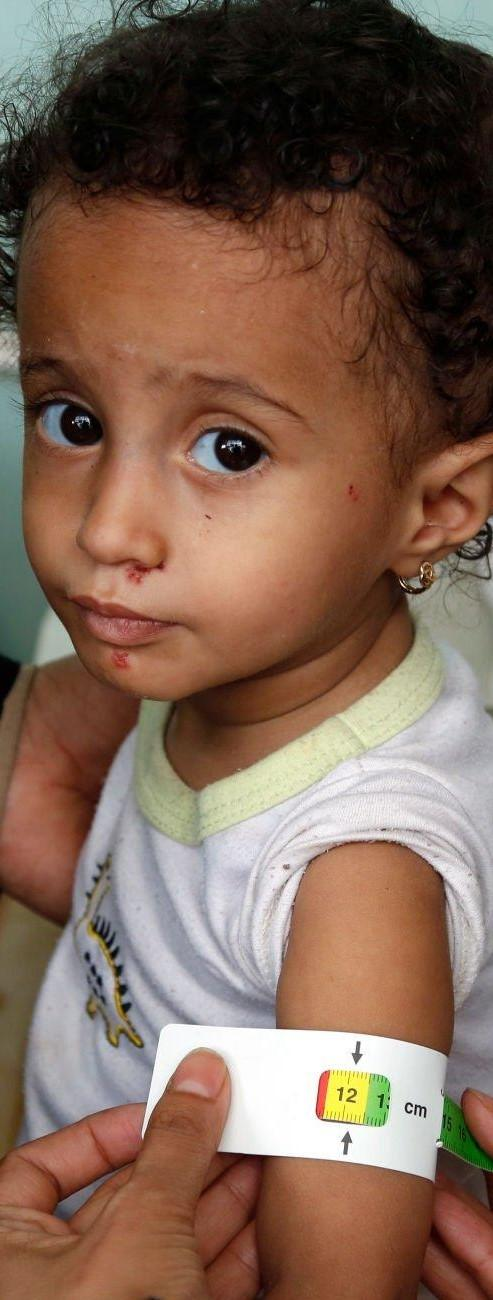Stunting: (0, 143, 493, 777)
